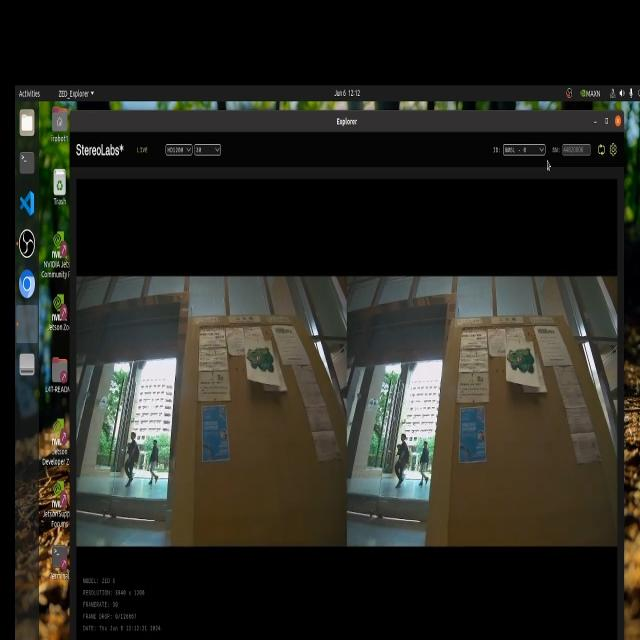green: (249, 339, 277, 382), (514, 344, 534, 386)
